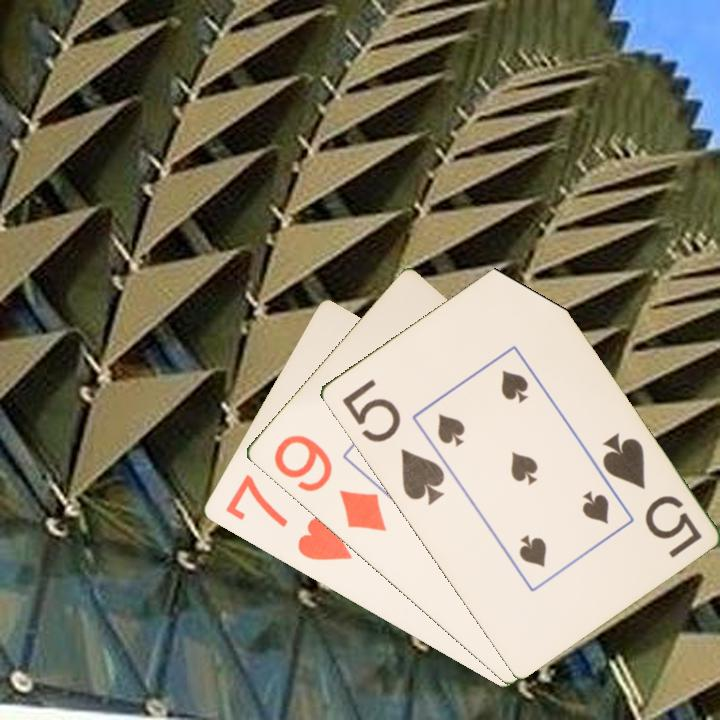5s: (338, 375, 448, 508), (598, 429, 705, 561)
7h: (221, 471, 355, 564)
9d: (269, 431, 389, 535)
